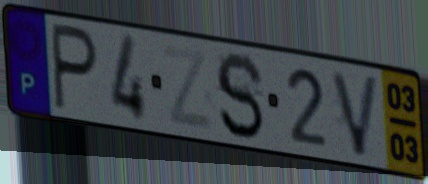2: (284, 65, 330, 150)
4: (108, 31, 149, 127)
P: (49, 19, 101, 116)
S: (213, 49, 267, 144)
V: (328, 67, 383, 160)
Z: (159, 41, 216, 135)
